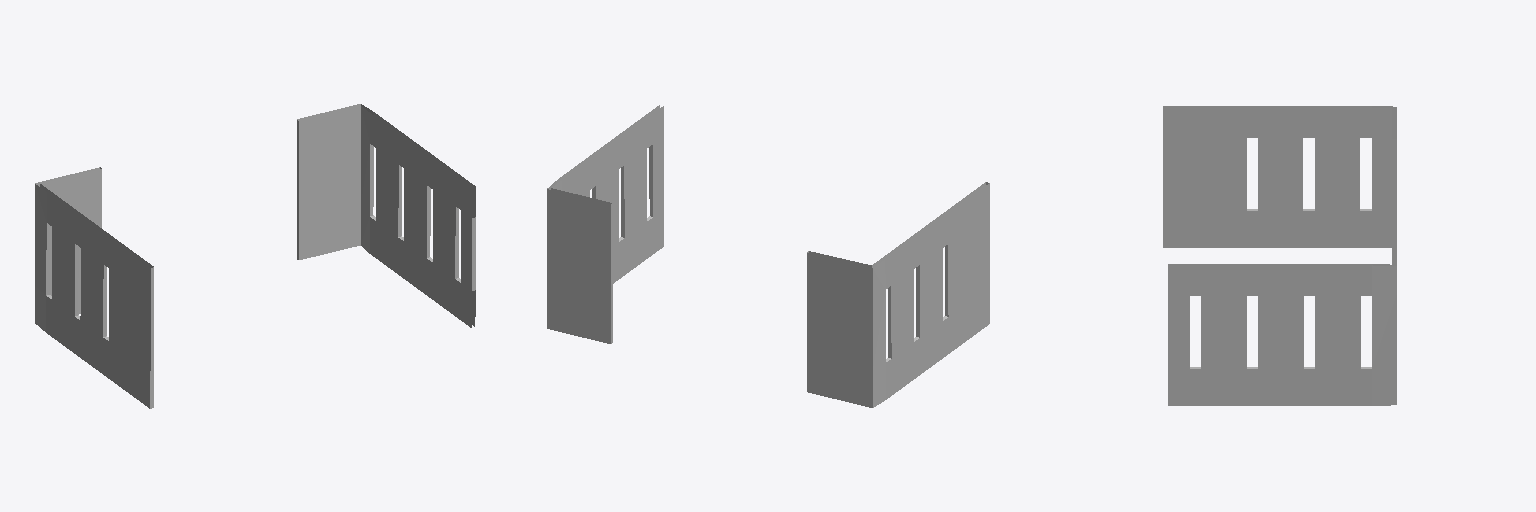
Rendered from TempleHall3.obj.
3 views of the same model, side by side, from view 1: azimuth 30°, elevation 25°; view 2: azimuth 150°, elevation 25°; view 3: azimuth 270°, elevation 25° (orthographic).
Parts seen in each view (by area): view 1: TempleHall3; view 2: TempleHall3; view 3: TempleHall3.
Boxes of the visible parts, x1=… form: TempleHall3: x1=35, y1=104, x2=475, y2=408; TempleHall3: x1=547, y1=105, x2=989, y2=407; TempleHall3: x1=1163, y1=106, x2=1396, y2=405.
Size of the model in its own units: 2706 by 1112 by 1666.